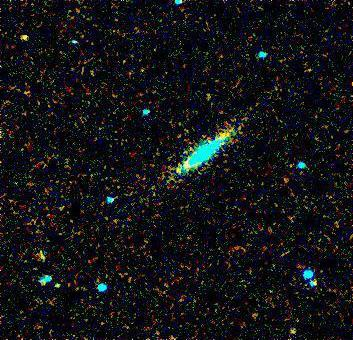star: (17, 22, 47, 52)
